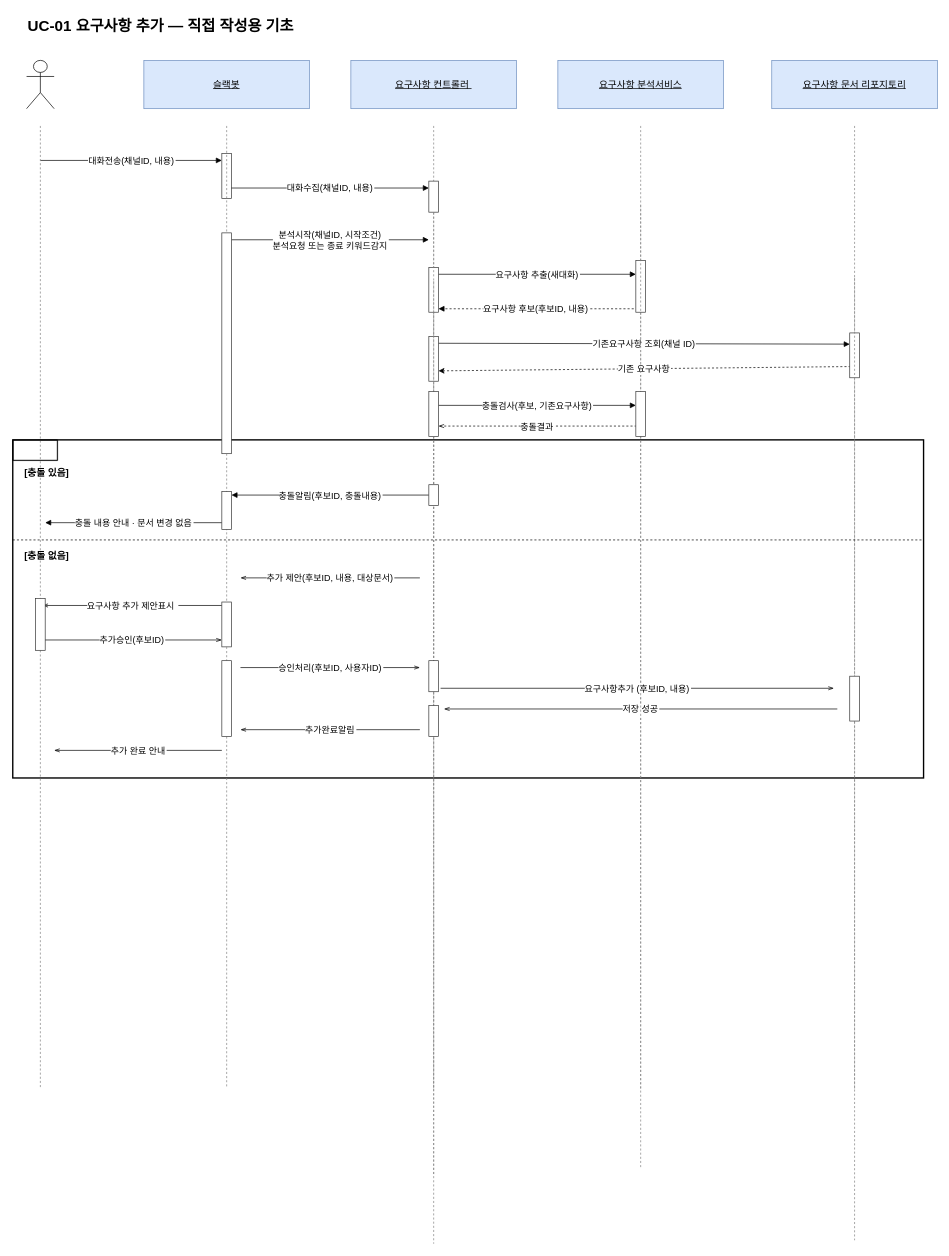
Some shapes in this 949 by 1256 pixel diagram are drawn without their labels. The box of each missing label's shape, as (x1, y1, x2, y2) in pixels:
alt: (12, 439, 58, 461)
사용자: (26, 60, 54, 109)
